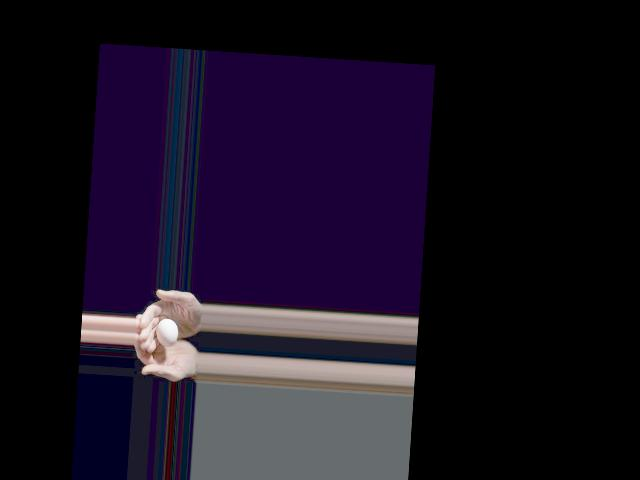egg: (155, 317, 179, 347)
